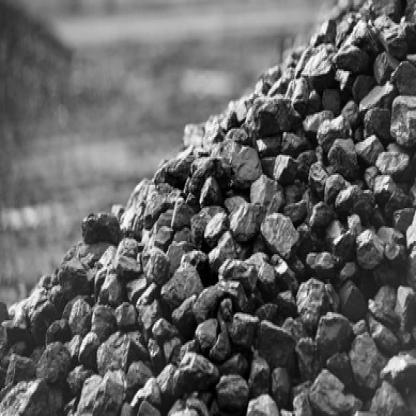Sedimentary_coal: (332, 10, 380, 74), (142, 158, 191, 219), (218, 140, 269, 190), (155, 258, 208, 304), (258, 206, 304, 258), (294, 274, 339, 322), (346, 332, 380, 390), (190, 281, 238, 320), (295, 46, 338, 89), (76, 203, 124, 238), (75, 366, 108, 408), (355, 223, 385, 262), (90, 299, 116, 340)
